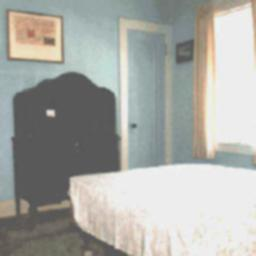Armario: (16, 74, 120, 172)
Puerta: (126, 30, 167, 164)
